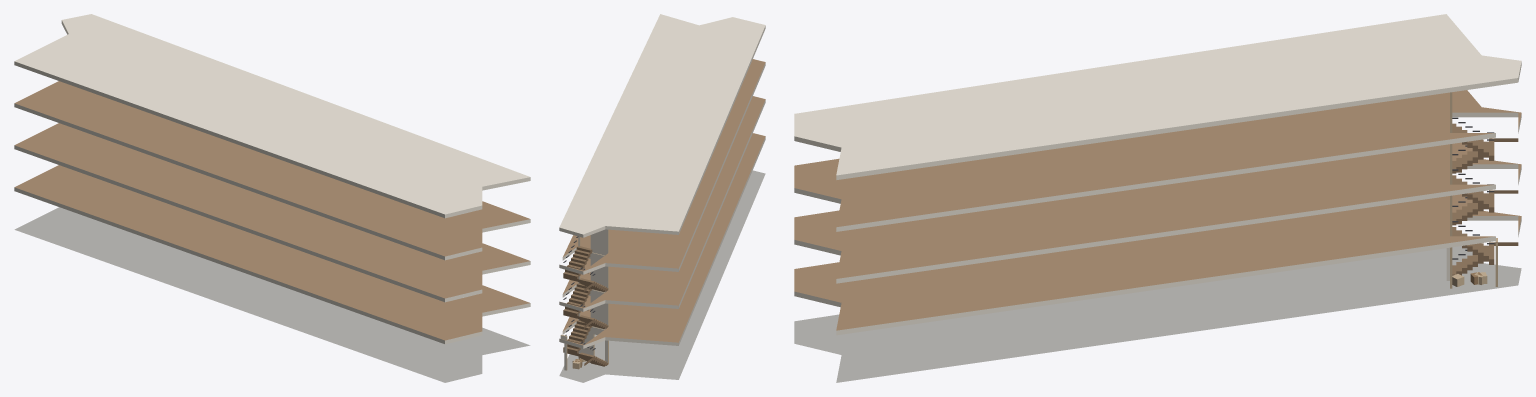
Rendered from interior.glb.
3 renders of one model, left to right at view 1: azimuth 30°, elevation 25°; view 2: azimuth 150°, elevation 25°; view 3: azimuth 270°, elevation 25°, orthographic. The views are drawn at different scales.
Visible parts, largest first — view 1: slabs; view 2: slabs, stair, partitions; view 3: slabs, stair, partitions.
Part boxes in pixels (<box>): slabs: <box>14,14,530,382</box>; slabs: <box>559,14,765,382</box>; stair: <box>563,236,608,366</box>; partitions: <box>560,229,608,370</box>; slabs: <box>794,14,1521,382</box>; stair: <box>1452,117,1518,275</box>; partitions: <box>1446,92,1497,288</box>.
Bounding box in the file's own units: 19.08 × 11.45 × 36.32.
